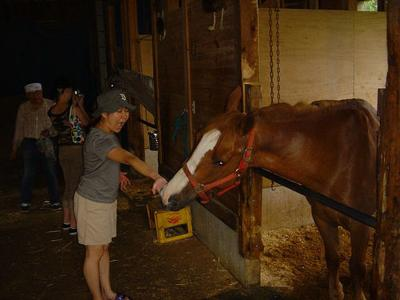person: (74, 90, 170, 300)
